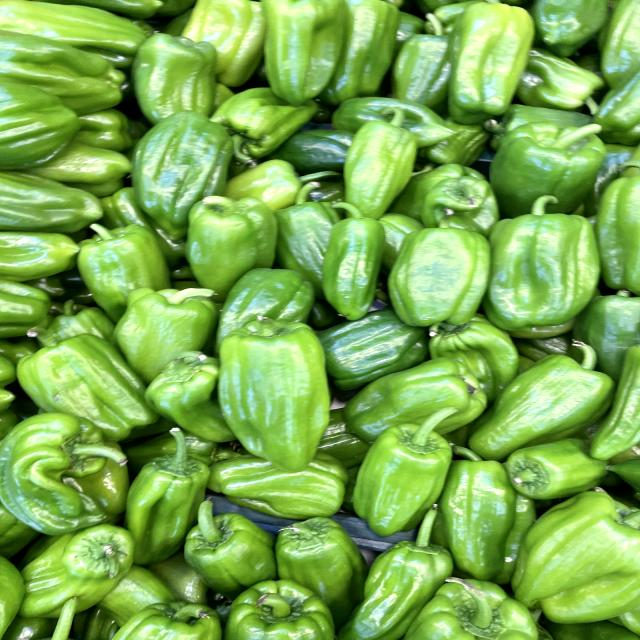bell pepper: (210, 310, 338, 477), (5, 321, 162, 439), (488, 194, 607, 338), (346, 405, 474, 538), (385, 203, 499, 340), (117, 423, 219, 566), (491, 113, 621, 221)
